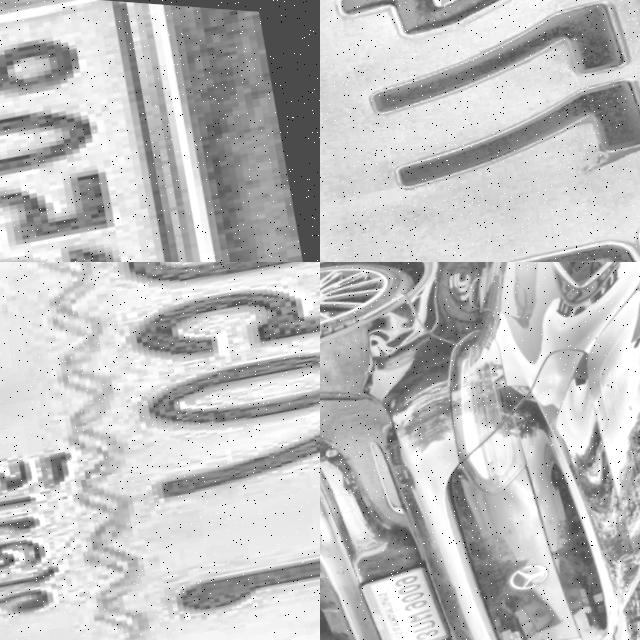license-plate: (0, 262, 320, 640), (0, 0, 320, 262), (320, 0, 640, 262), (361, 553, 475, 640)
